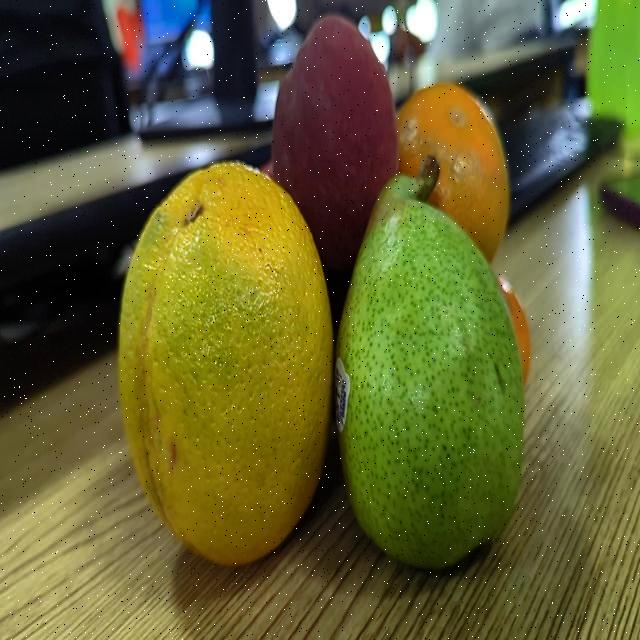Jeruk: (115, 152, 336, 576)
Jeruk Mandarin: (410, 82, 516, 237), (498, 262, 532, 374)
Persik: (270, 7, 400, 258)
Pir: (334, 155, 528, 571)
